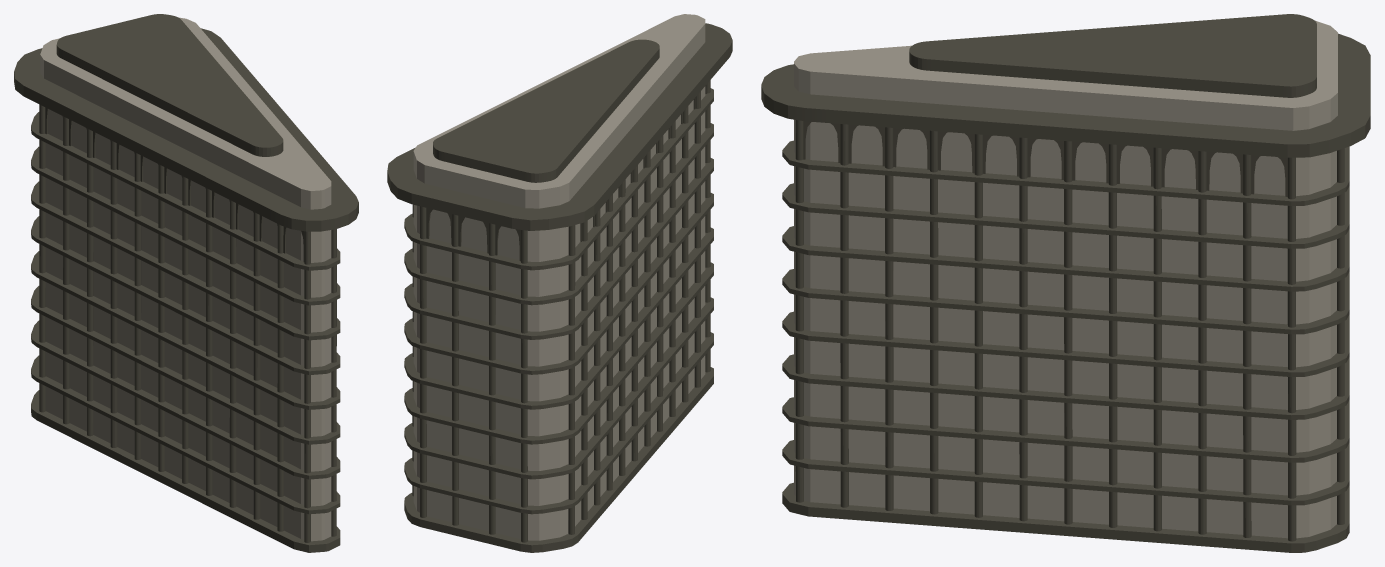
File: İronState.fbx
3 renders of one model, left to right at view 1: azimuth 30°, elevation 25°; view 2: azimuth 150°, elevation 25°; view 3: azimuth 270°, elevation 25°, orthographic. The views are drawn at different scales.
Visible parts, largest first — view 1: Object_62; view 2: Object_62; view 3: Object_62.
Boxes of the visible parts, x1=… form: Object_62: x1=14, y1=14, x2=358, y2=552; Object_62: x1=387, y1=14, x2=732, y2=552; Object_62: x1=761, y1=14, x2=1370, y2=552.
Bounding box in the file's own units: 267 × 475 × 581.
